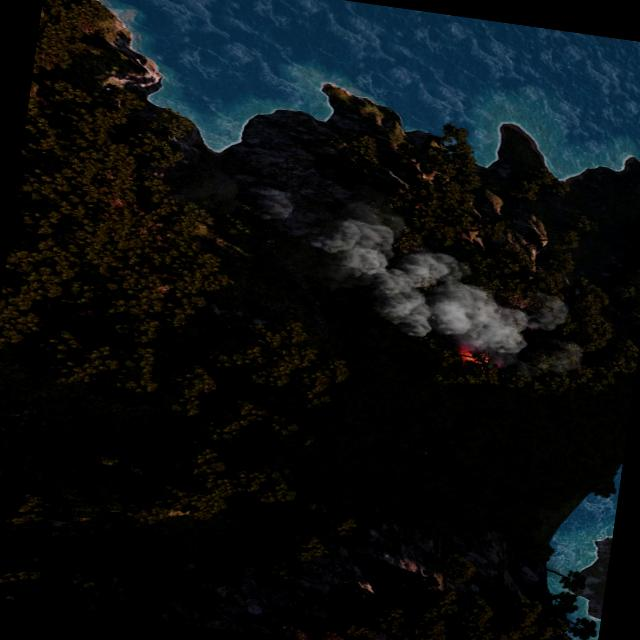fire: (452, 342, 480, 361)
smoke: (302, 194, 584, 368)
